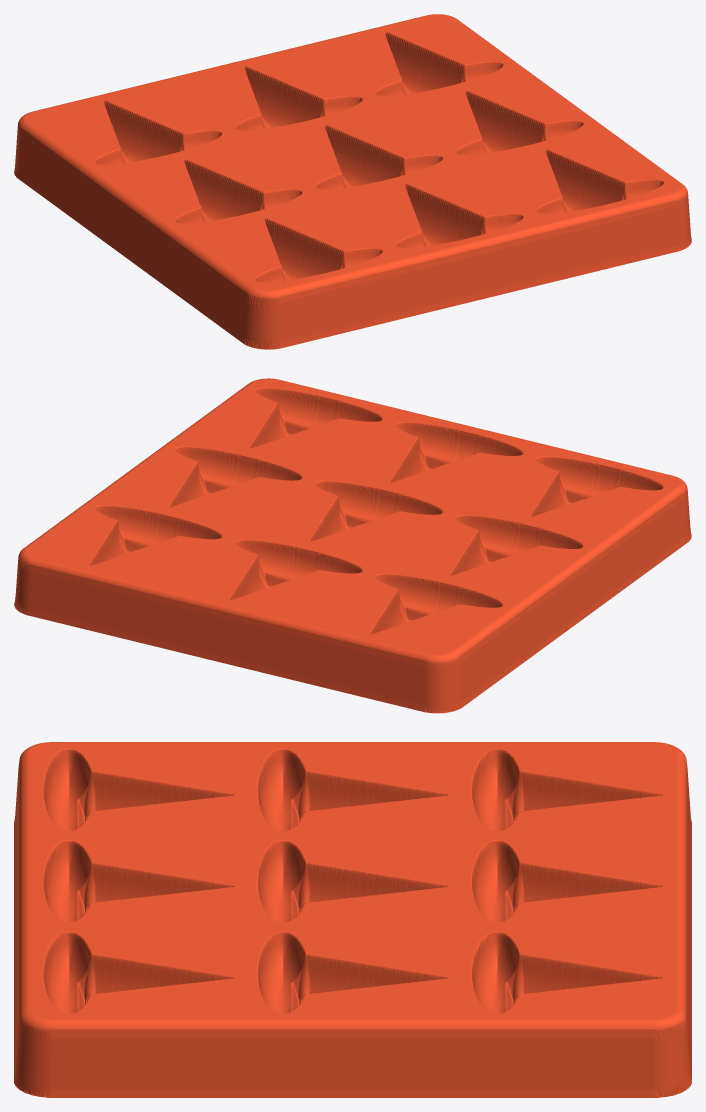
File: mold.glb
3 renders of one model, top to bottom at view 1: azimuth 30°, elevation 25°; view 2: azimuth 150°, elevation 25°; view 3: azimuth 270°, elevation 25°, orthographic. The views are drawn at different scales.
Parts seen in each view (by area): view 1: geometry_0; view 2: geometry_0; view 3: geometry_0.
Part boxes in pixels (x1,y1,x2,y2): geometry_0: (14,14,691,349); geometry_0: (14,378,691,713); geometry_0: (14,742,691,1097).
Bounding box in the file's own units: 0.1595 × 0.0185 × 0.1579.
